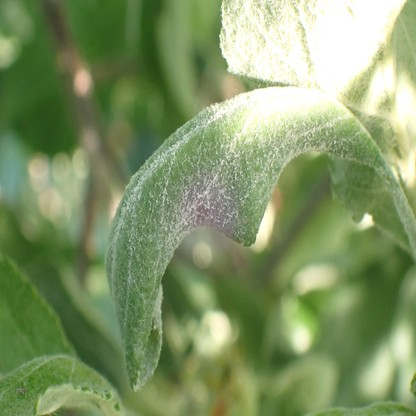powder: (105, 85, 416, 393), (218, 0, 406, 81), (1, 353, 127, 416)
